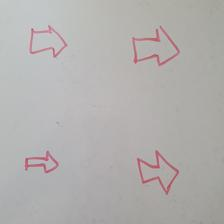cds-arrow: (132, 26, 180, 65), (138, 150, 180, 194), (30, 25, 67, 58), (25, 150, 59, 173)
